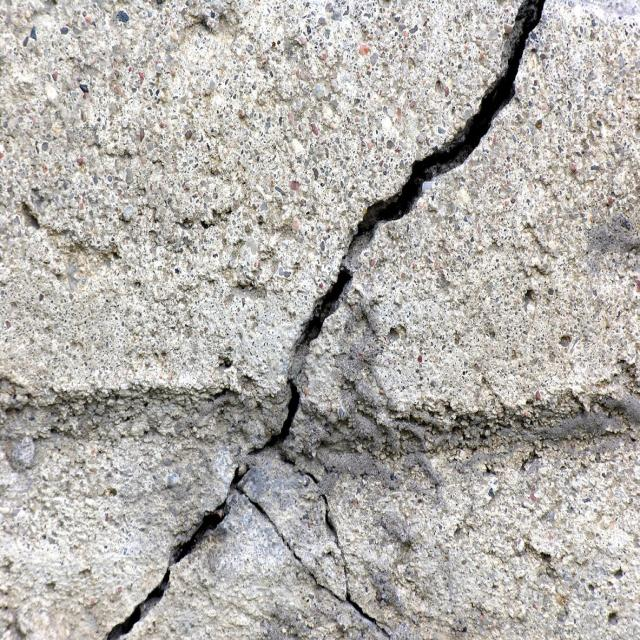Crack: (101, 0, 543, 639), (237, 487, 393, 639), (276, 440, 350, 598)
